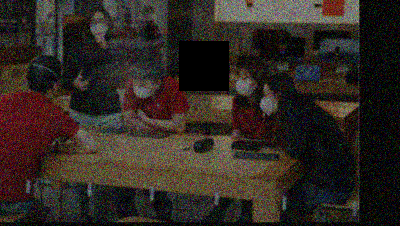with_mask: (259, 89, 277, 116), (132, 78, 155, 98), (235, 73, 254, 95), (89, 16, 108, 35)
